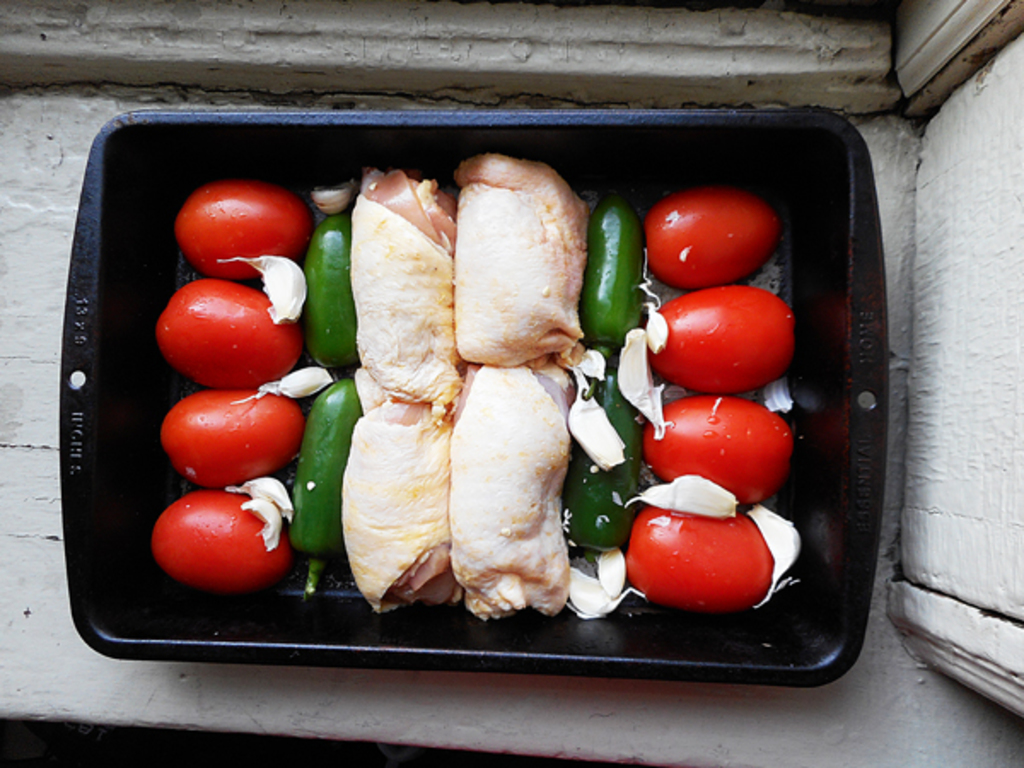Tomato: (155, 278, 305, 390), (648, 392, 793, 506), (153, 384, 296, 498), (153, 489, 288, 595), (655, 285, 790, 390), (626, 513, 778, 605), (641, 186, 779, 286), (177, 177, 307, 274)
